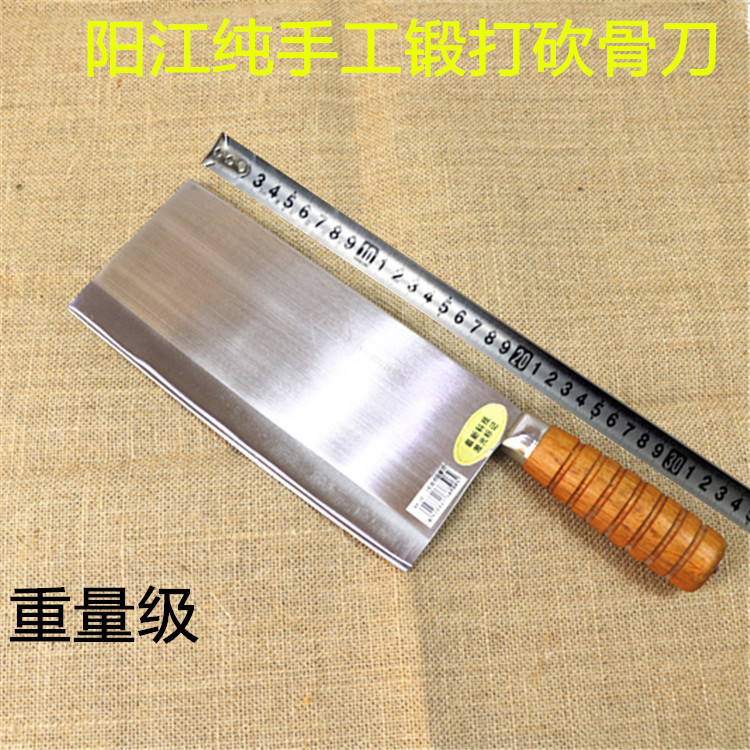knief: (85, 182, 723, 596)
